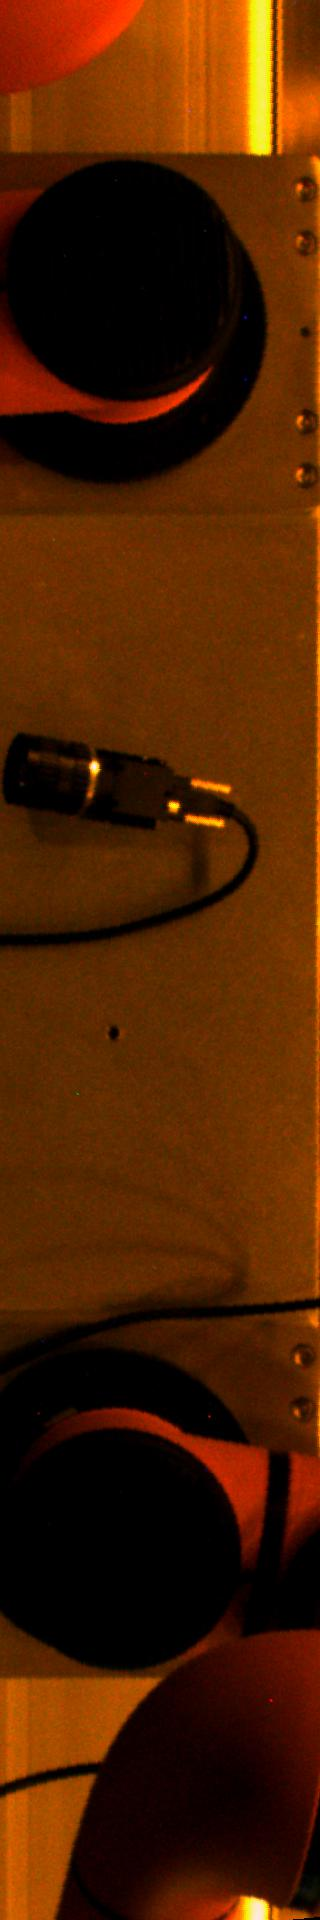keyPoint_2: (98, 1018, 128, 1048)
